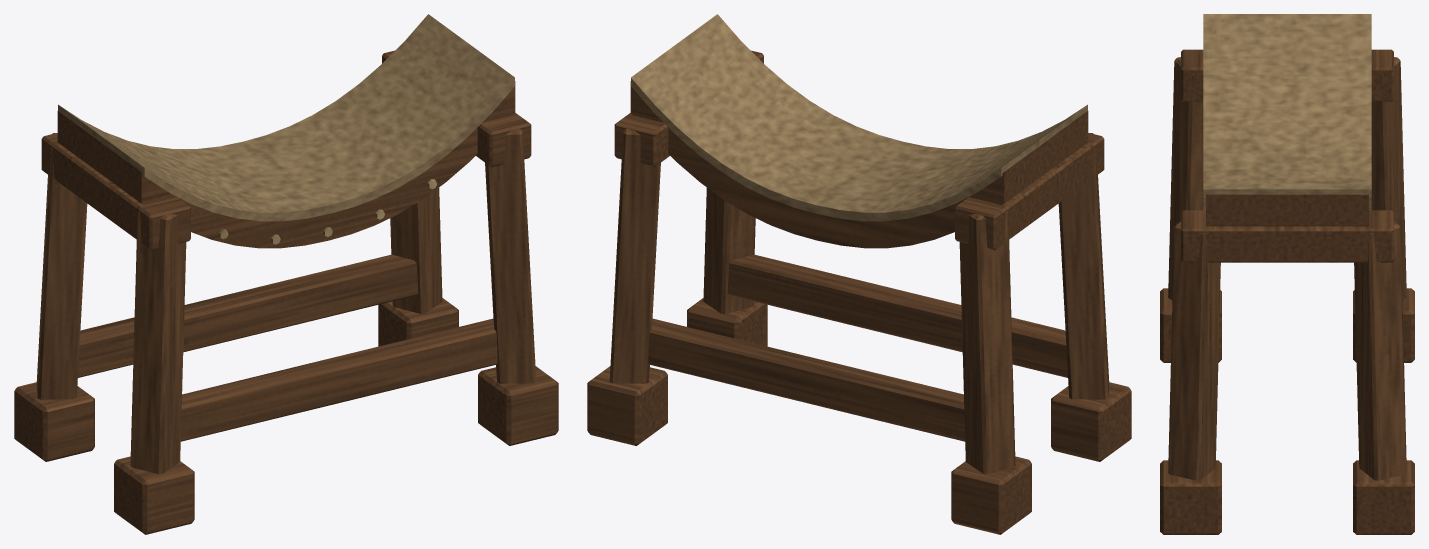
File: AssemblySaddle_LOD0.fbx
The picture shows the model from 3 angles, left to right: view 1: azimuth 30°, elevation 25°; view 2: azimuth 150°, elevation 25°; view 3: azimuth 270°, elevation 25°; orthographic projection. The views are drawn at different scales.
Visible parts, largest first — view 1: AssemblySaddle; view 2: AssemblySaddle; view 3: AssemblySaddle.
Part boxes in pixels (box(x1,y1,x2,y2)): AssemblySaddle: box(14, 14, 558, 534); AssemblySaddle: box(587, 14, 1131, 534); AssemblySaddle: box(1160, 14, 1414, 534).
Bounding box in the file's own units: 0.7976 × 0.636 × 0.4365.
Materials: 1 (1 with a texture image).
